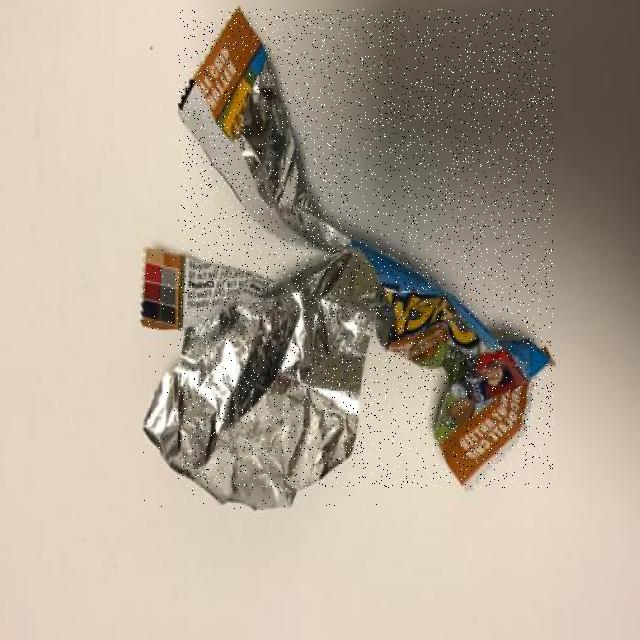metal: (144, 254, 381, 509)
wrapper: (179, 9, 554, 488), (143, 250, 279, 329)
